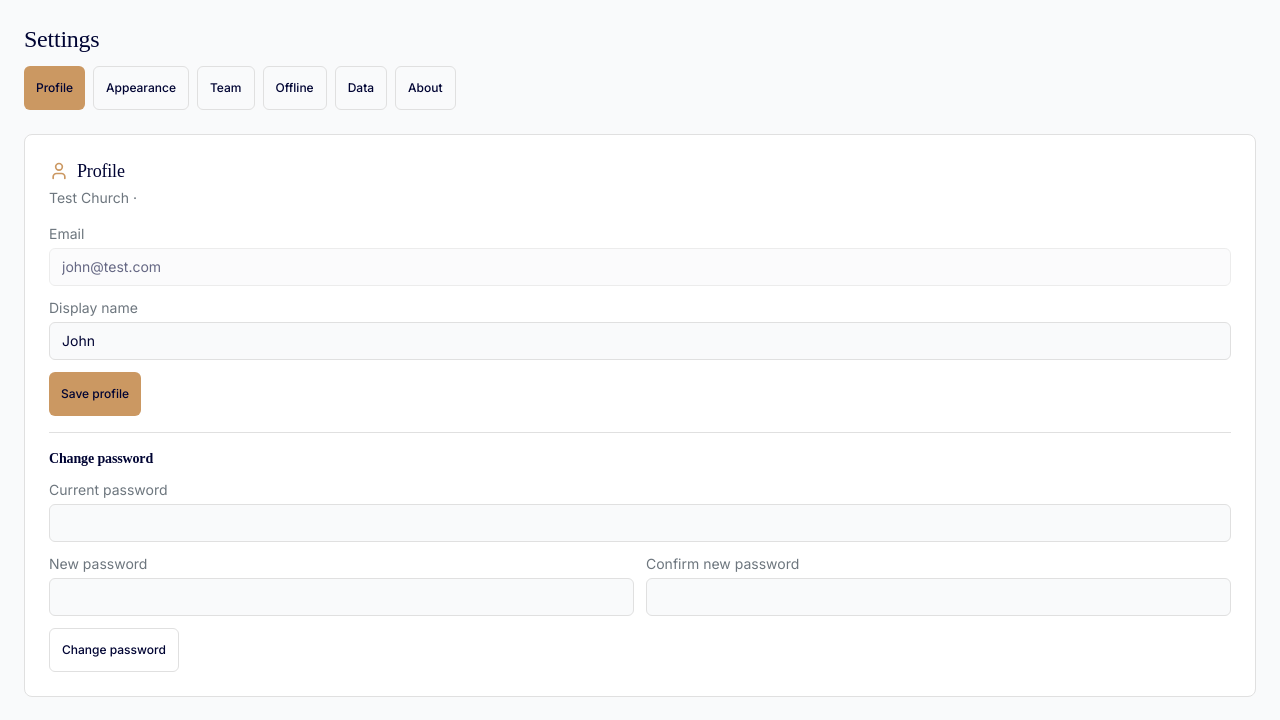
Scenario: SettingsPage › tabs › shows only the section of the tab that was clicked
This screenshot has width=1280, height=720.
Click the tab "Appearance" at (141, 88), box [93,66,189,110]
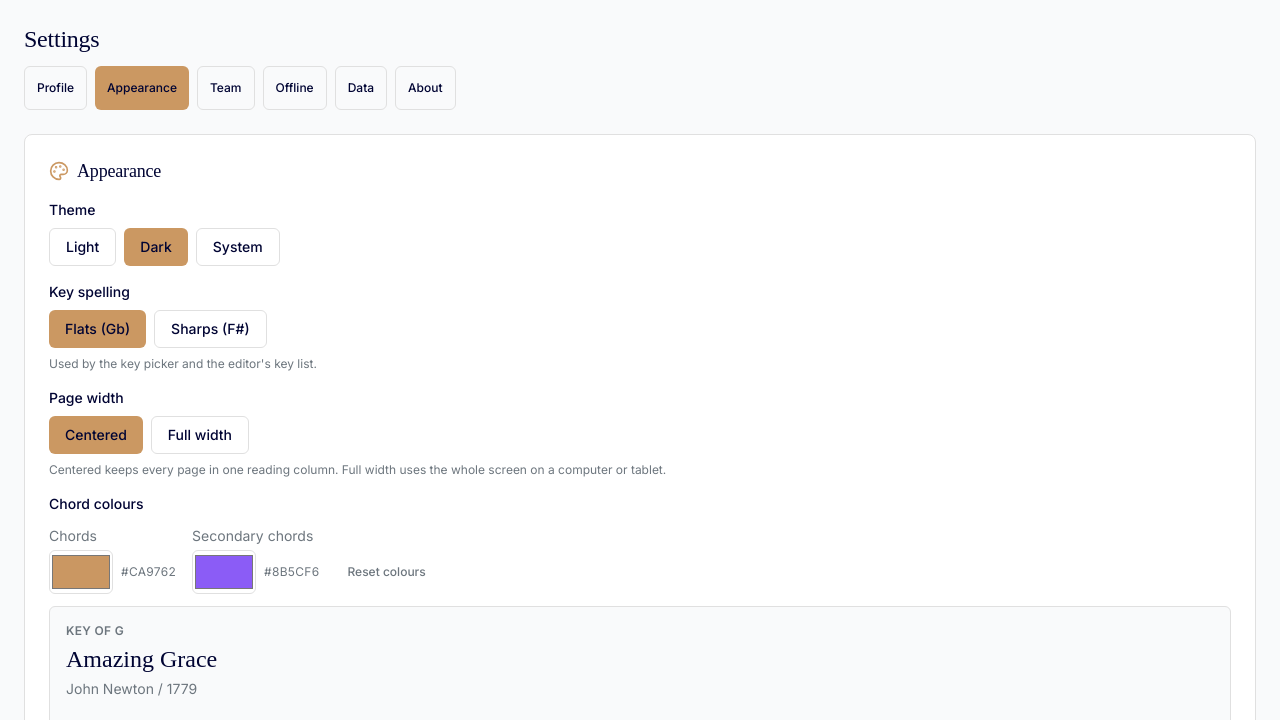
expect the headings read "Appearance", in this order: met, box [49,161,161,181]
expect the text labelled "Display name" is gone: met
Click the tab "Team" at (226, 88), box [197,66,254,110]
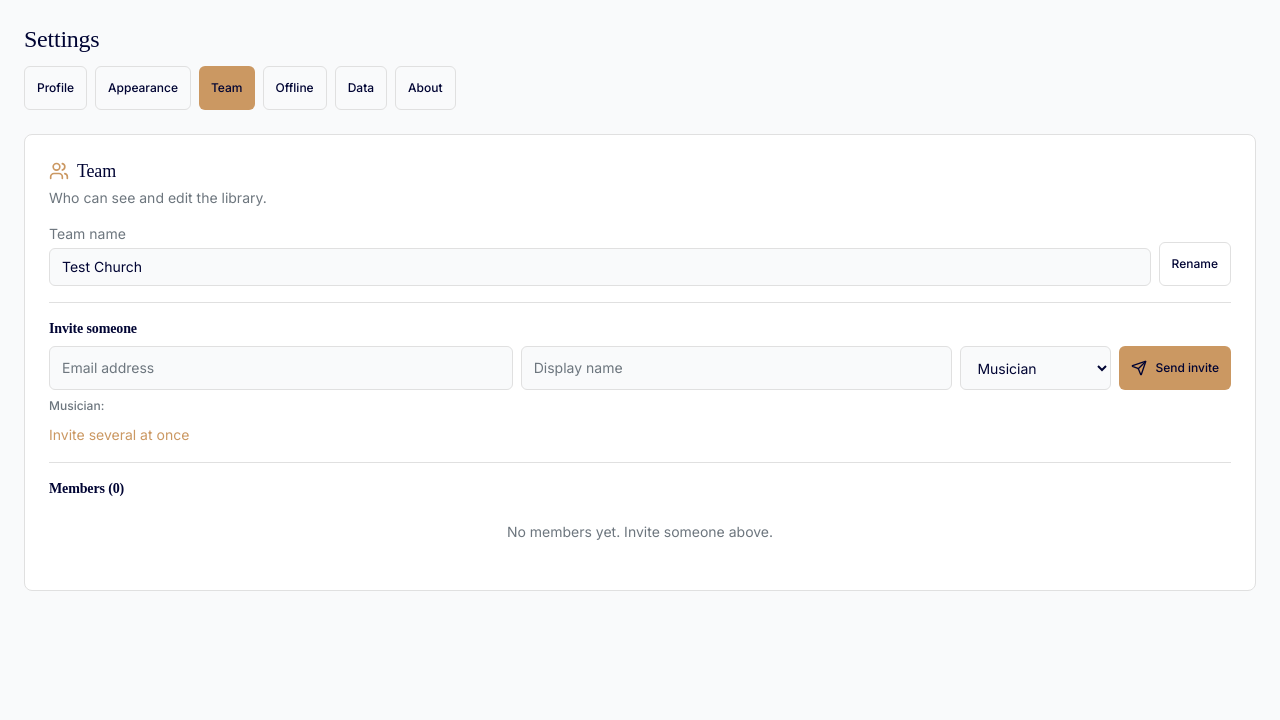
expect the headings read "Team", in this order: met, box [49,161,116,181]
